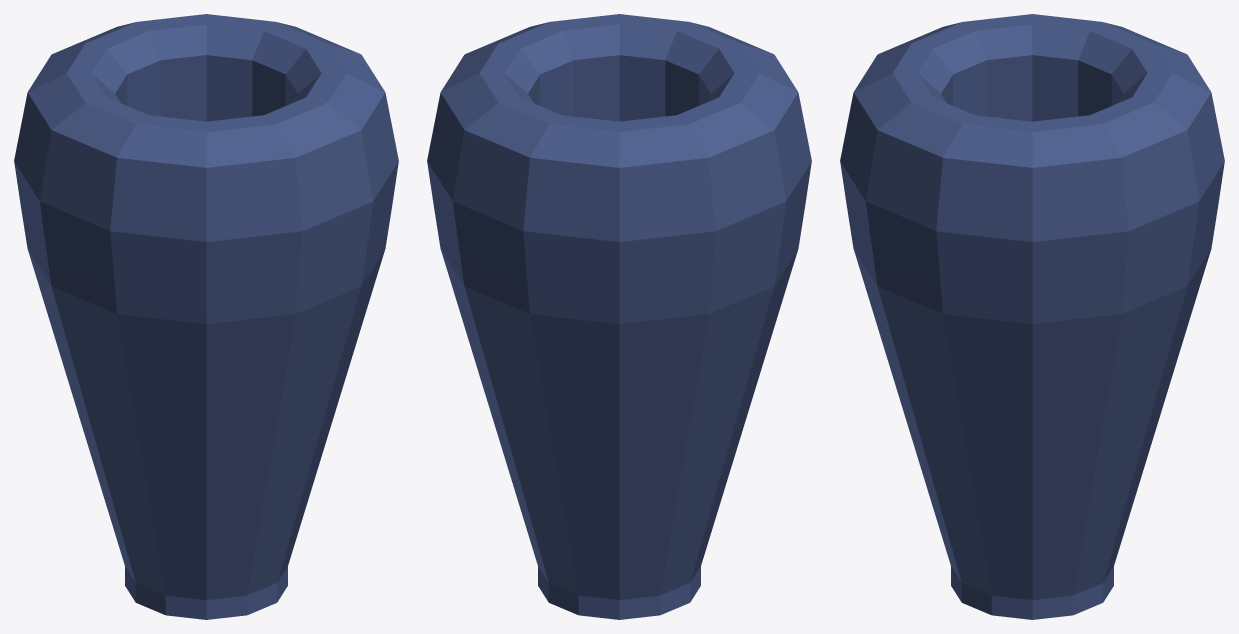
File: vase.gltf
3 renders of one model, left to right at view 1: azimuth 30°, elevation 25°; view 2: azimuth 150°, elevation 25°; view 3: azimuth 270°, elevation 25°, orthographic.
Visible parts, largest first — view 1: Vase; view 2: Vase; view 3: Vase.
Boxes of the visible parts, x1,y1,x2,y2 form: Vase: (14,14,398,619); Vase: (427,14,811,619); Vase: (840,14,1224,619).
Bounding box in the file's own units: 0.7752 × 1.14 × 0.7752.
